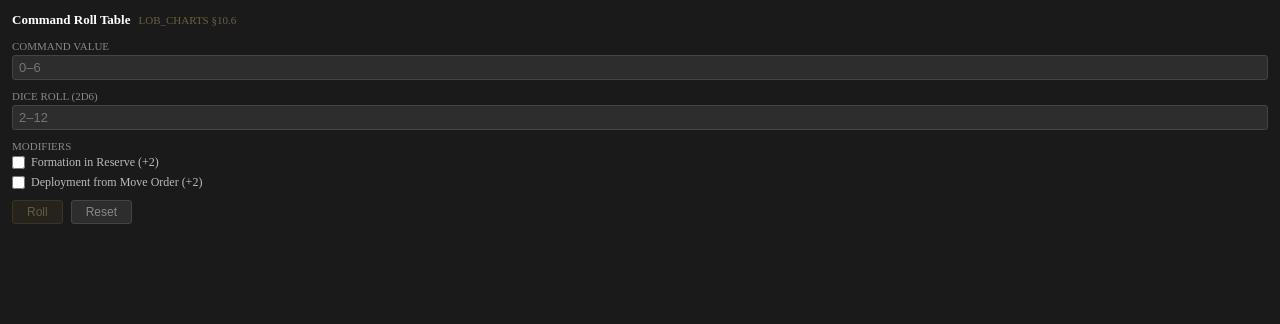
Test: CommandRollPanel › displays yes/no result after successful POST
Step 1. Type "3" into the number field labelled "Command Value" → point(640, 68), box left=12, top=55, right=1268, bottom=80
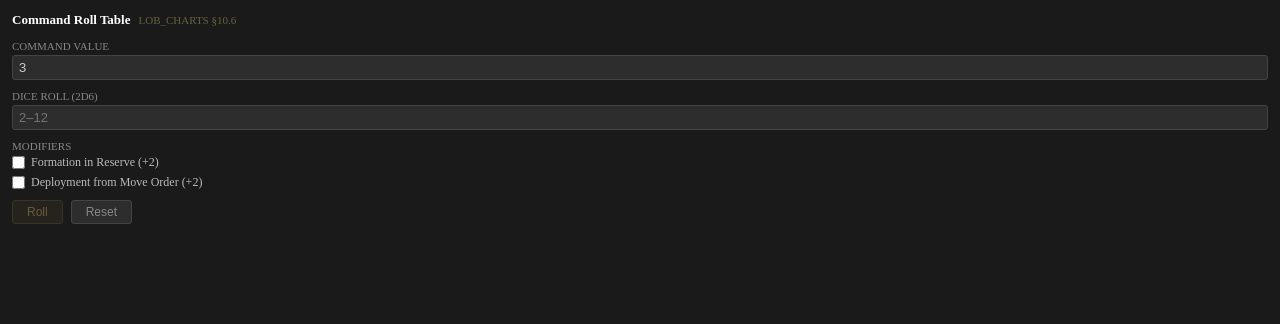
Step 2. Type "9" into the number field labelled "Dice Roll (2d6)" → point(640, 118), box left=12, top=105, right=1268, bottom=130
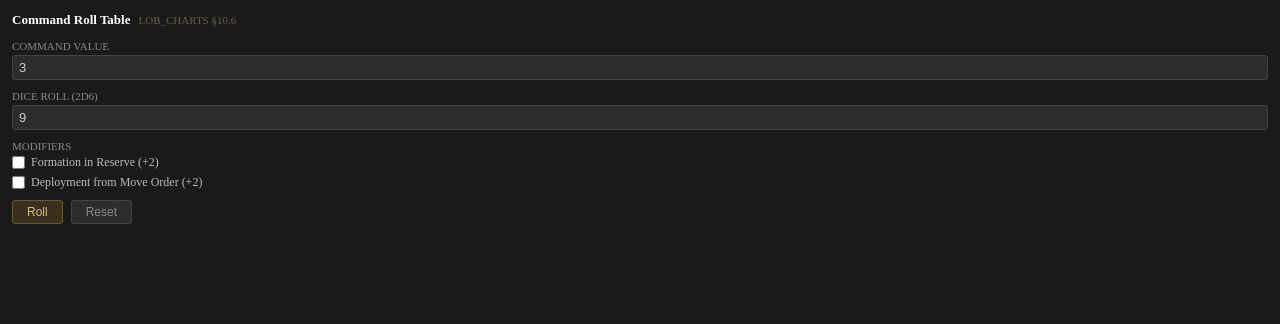
Step 3. Click the button "Roll" → point(37, 212), box left=12, top=200, right=63, bottom=224
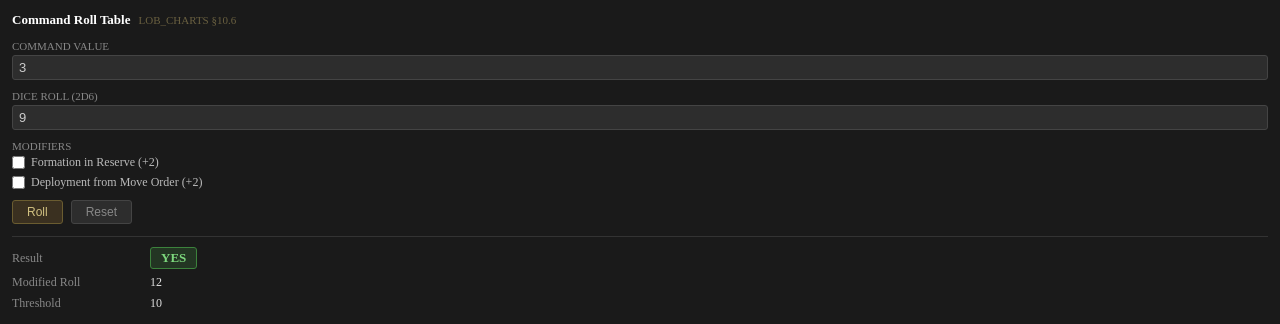
Now the text "YES" is shown, box left=150, top=247, right=197, bottom=269
Now the text "Modified Roll" is shown, box left=12, top=275, right=80, bottom=289
